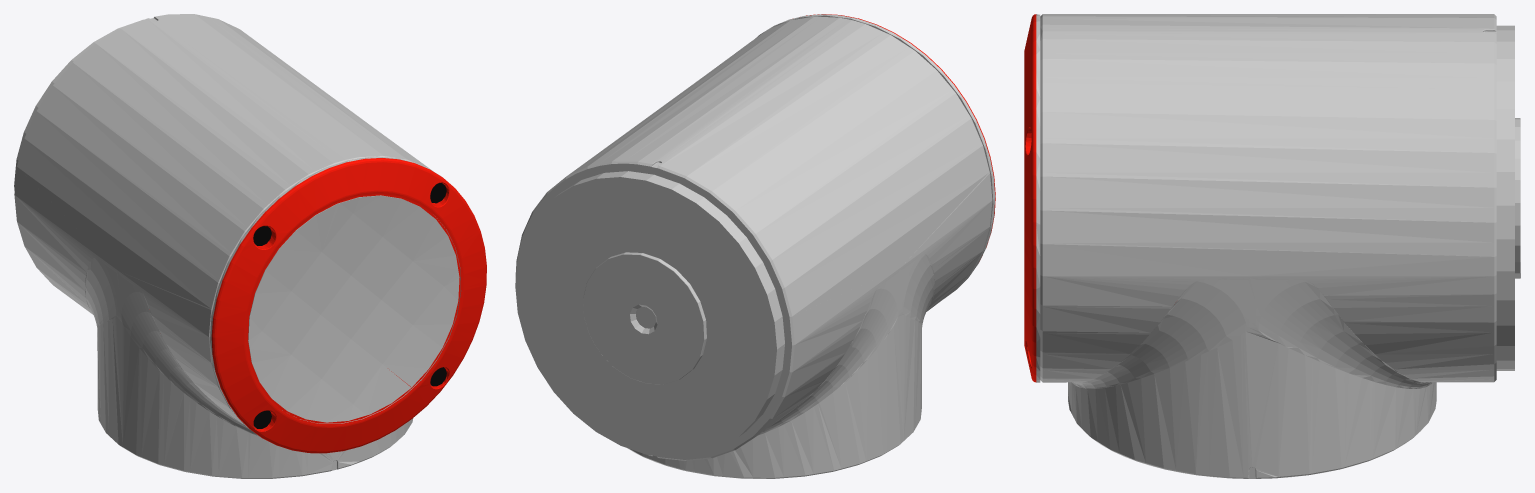
File: wrist2_link.obj
3 views of the same model, side by side, from view 1: azimuth 30°, elevation 25°; view 2: azimuth 150°, elevation 25°; view 3: azimuth 270°, elevation 25° (orthographic). The views are drawn at different scales.
Visible parts, largest first — view 1: wrist2_link; view 2: wrist2_link; view 3: wrist2_link.
Boxes of the visible parts, left/top/right/bottom form: wrist2_link: left=14, top=14, right=486, bottom=478; wrist2_link: left=515, top=14, right=995, bottom=478; wrist2_link: left=1024, top=14, right=1520, bottom=478.
Size of the model in its own units: 0.08 by 0.0888 by 0.1077.
